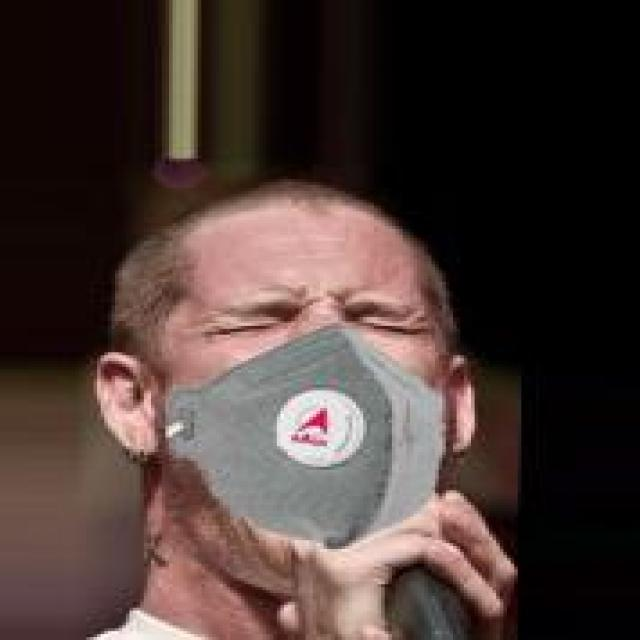mask: (86, 185, 518, 593)
